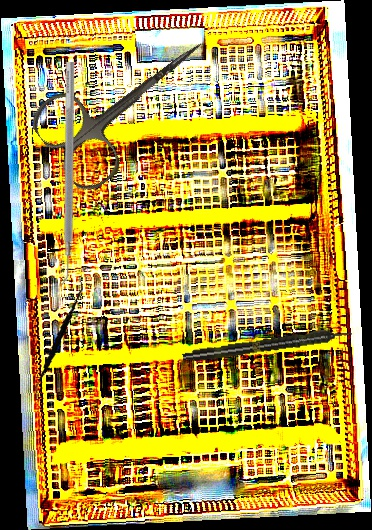Handpiece: (181, 326, 354, 365)
Iris Scissors: (24, 5, 233, 198)
Spatula Surgical: (17, 275, 99, 401), (55, 62, 75, 285)
